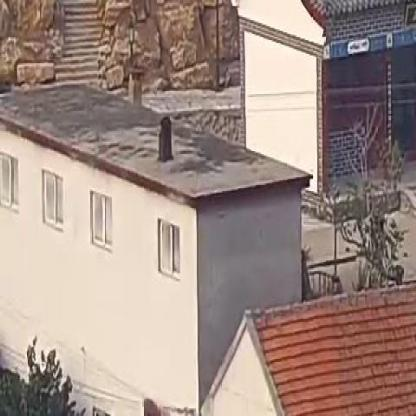other: (255, 306, 402, 389)
